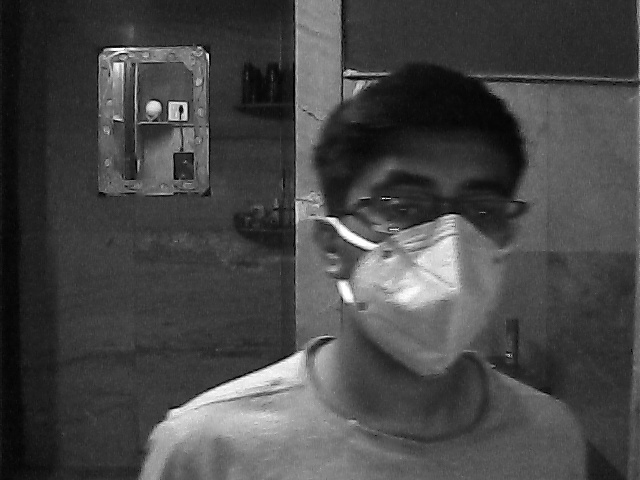mask: (327, 150, 519, 378)
